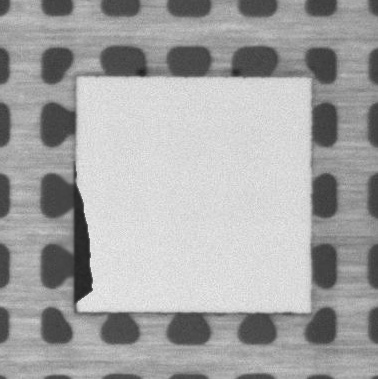DIE_BROKEN: (71, 165, 95, 302)
